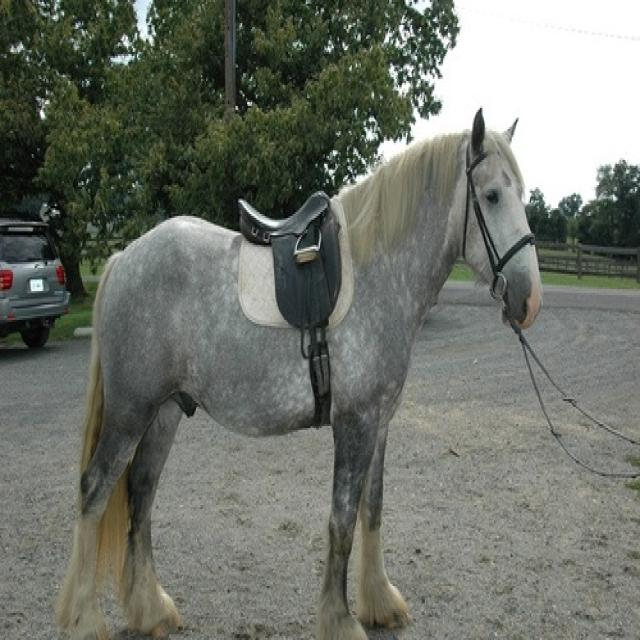car: (1, 220, 72, 349)
horse: (54, 106, 541, 638)
